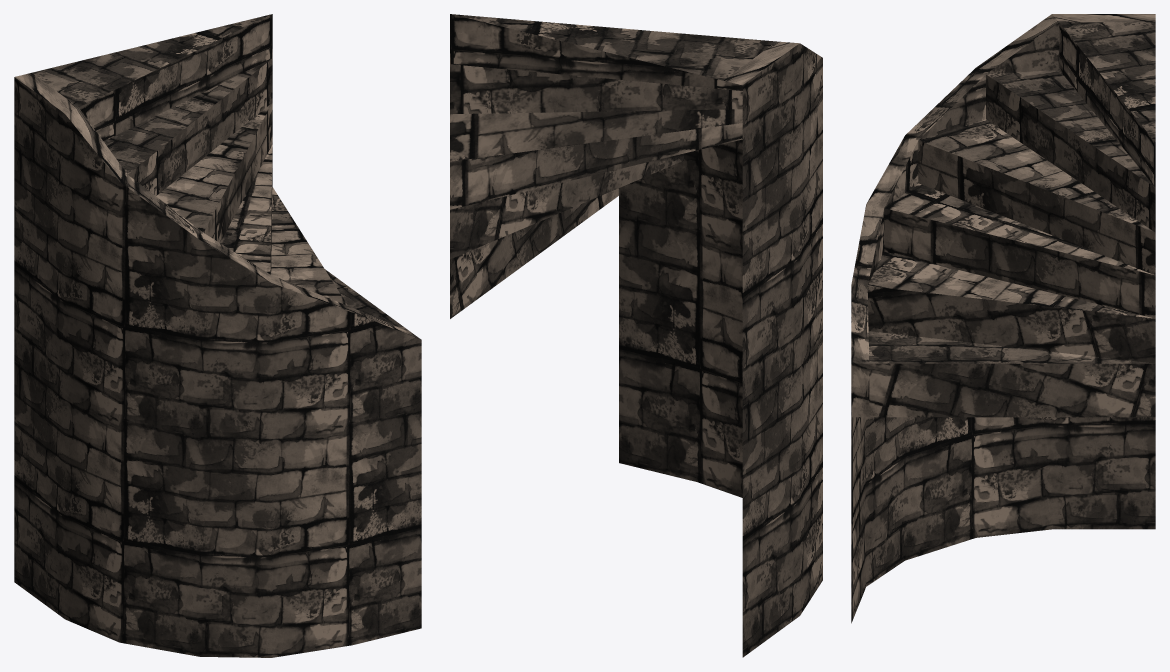
Rendered from CornerStair00.fbx.
3 views of the same model, side by side, from view 1: azimuth 30°, elevation 25°; view 2: azimuth 150°, elevation 25°; view 3: azimuth 270°, elevation 25° (orthographic). The views are drawn at different scales.
Visible parts, largest first — view 1: CornerStair; view 2: CornerStair; view 3: CornerStair.
Part boxes in pixels (x1,y1,x2,y2): CornerStair: (14,14,421,657); CornerStair: (450,14,822,657); CornerStair: (851,14,1155,623).
Size of the model in its own units: 5 by 9.35 by 5.
